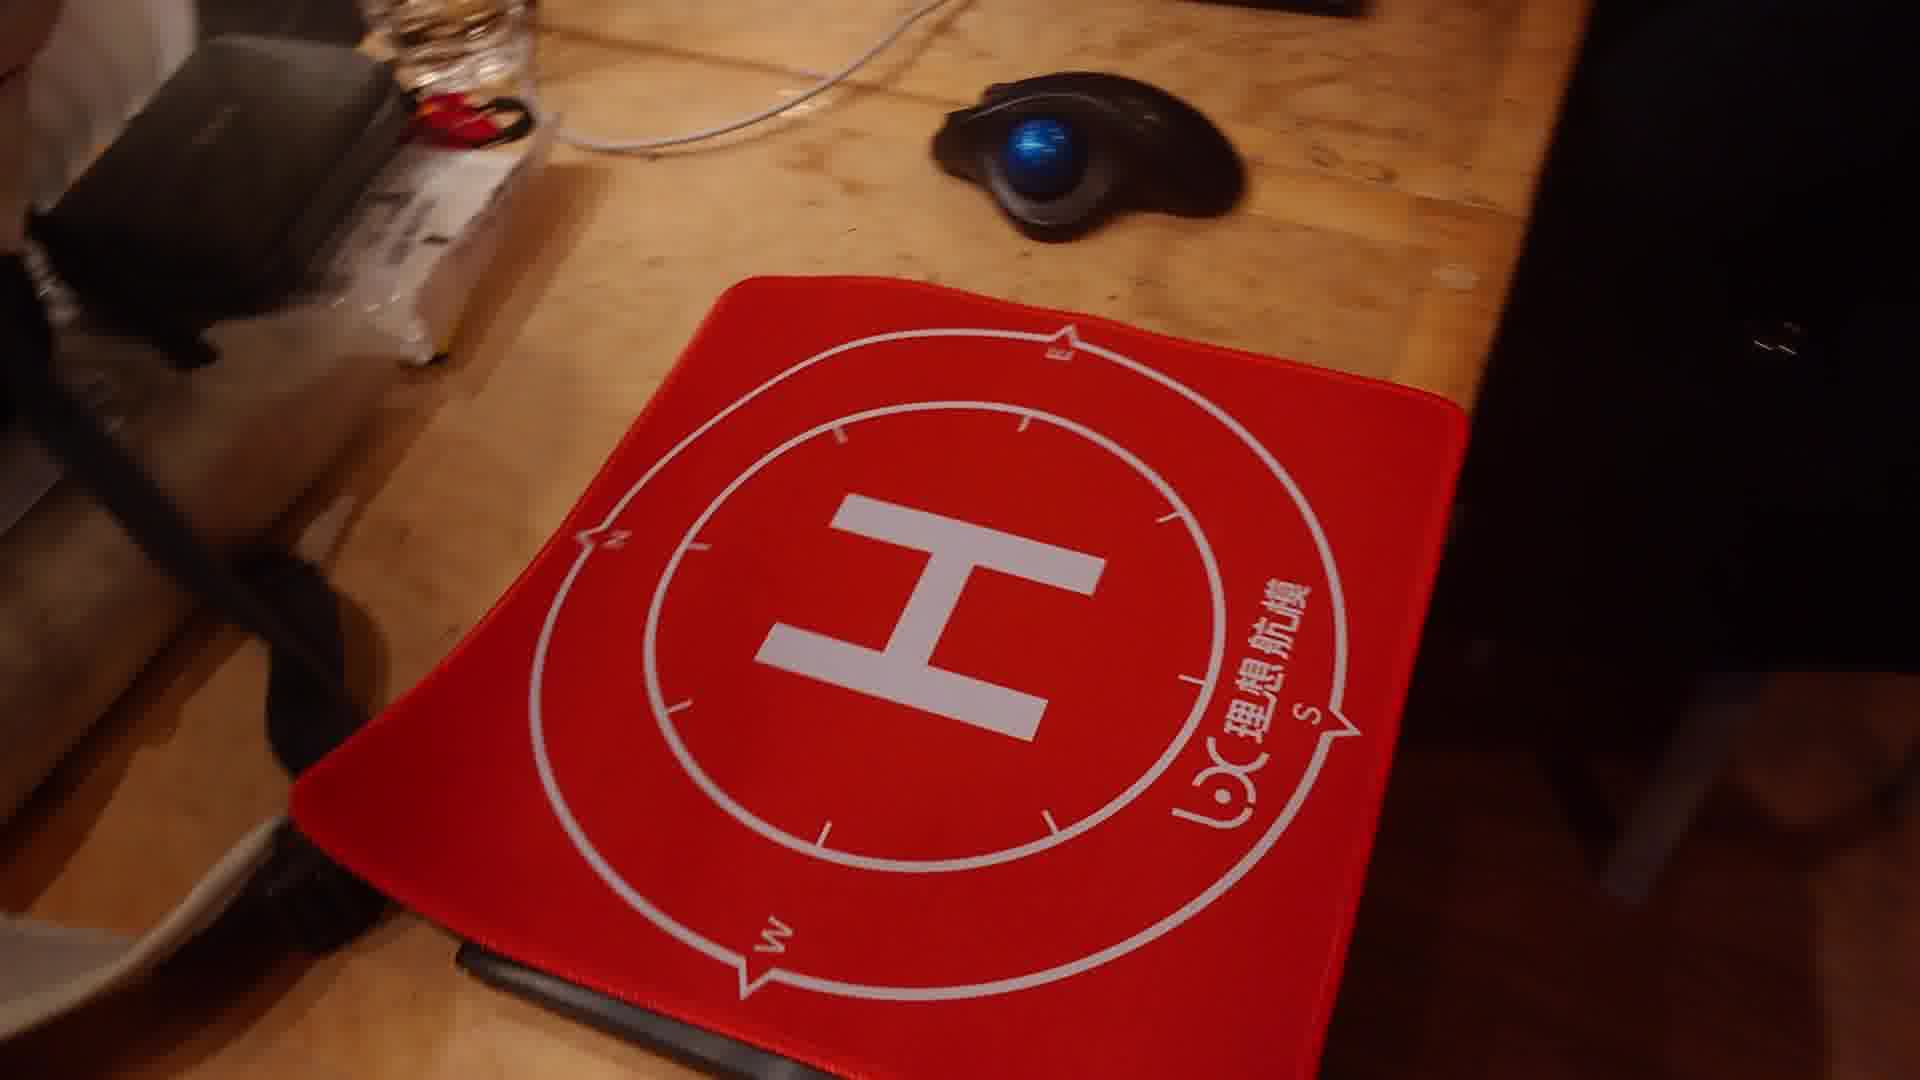H: (757, 491, 1112, 742)
